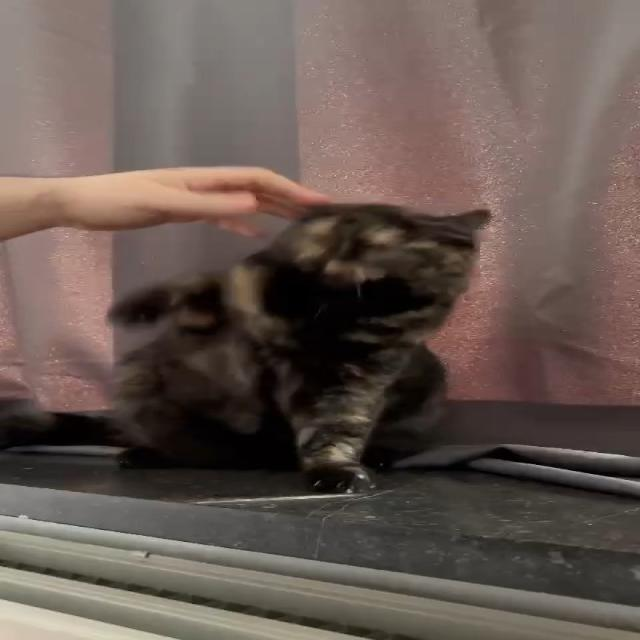authorized: (3, 201, 493, 494)
